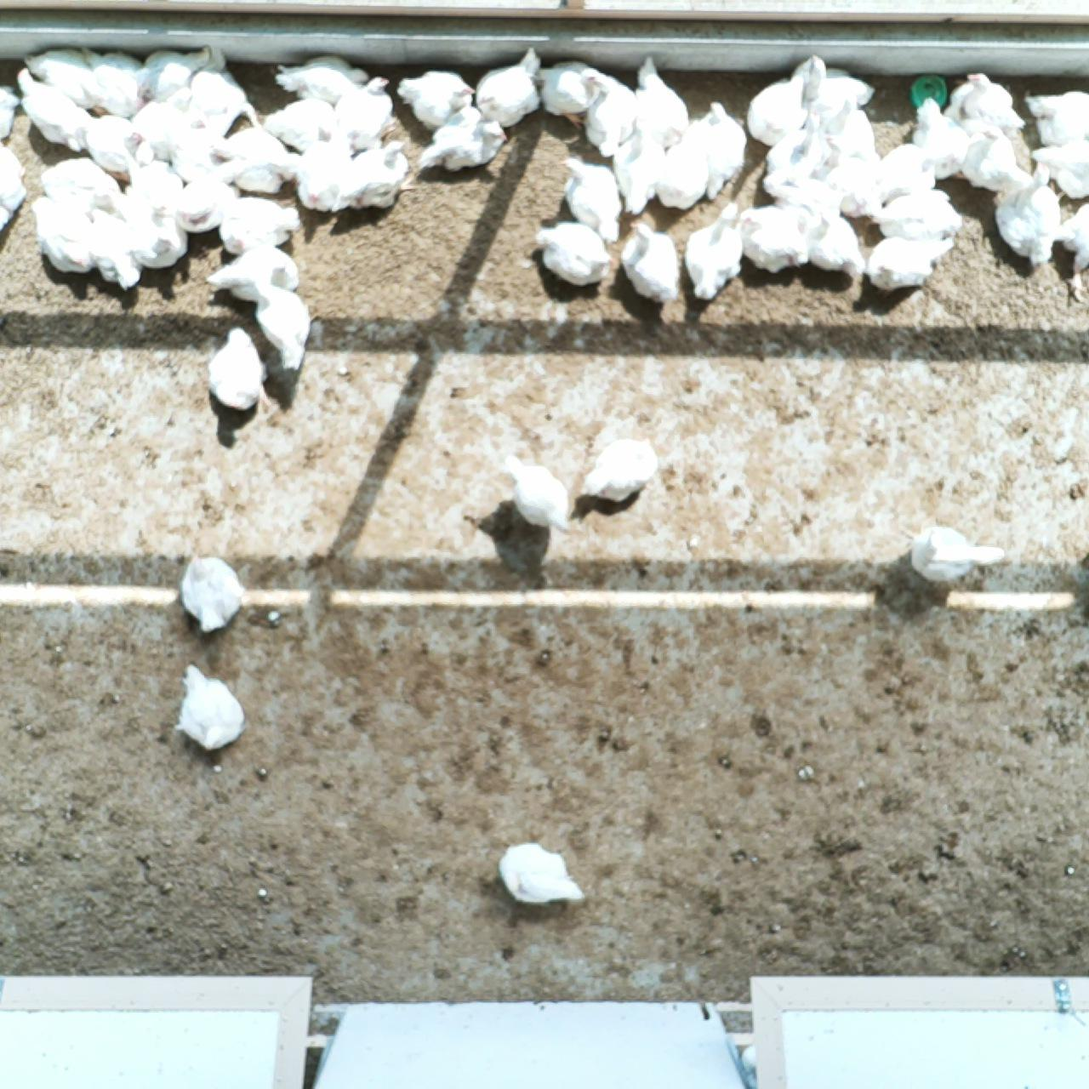chicken: (991, 161, 1064, 269), (898, 519, 1010, 589), (170, 661, 253, 751), (199, 324, 277, 419), (329, 135, 421, 215), (416, 104, 509, 180), (683, 199, 748, 305), (207, 123, 301, 196), (497, 451, 578, 535), (14, 66, 94, 151), (578, 432, 662, 512), (499, 838, 591, 909), (211, 123, 299, 197), (865, 183, 966, 247), (204, 240, 304, 304), (179, 549, 252, 635), (906, 97, 974, 189), (558, 154, 626, 246), (605, 117, 669, 214), (475, 44, 546, 130), (250, 279, 316, 371), (690, 99, 748, 202), (20, 44, 103, 114), (958, 123, 1033, 200), (629, 54, 690, 148), (124, 184, 187, 275), (29, 191, 96, 276), (819, 133, 882, 223), (534, 219, 616, 288), (81, 42, 155, 117), (219, 192, 303, 258), (738, 204, 812, 277), (751, 60, 811, 150), (533, 55, 605, 130), (397, 64, 475, 133), (36, 154, 124, 215), (274, 48, 371, 102), (296, 128, 356, 215), (85, 200, 141, 293), (946, 71, 1024, 135), (766, 113, 834, 186), (863, 235, 947, 293), (583, 68, 640, 153), (620, 221, 680, 301), (653, 135, 711, 214), (263, 92, 339, 150), (801, 57, 874, 115), (339, 75, 396, 149), (136, 45, 211, 100), (1052, 200, 1089, 308), (81, 113, 152, 169), (1023, 86, 1089, 146), (811, 214, 869, 281), (873, 143, 941, 200), (165, 129, 236, 183), (135, 103, 206, 155), (1029, 139, 1089, 198), (171, 178, 232, 235), (761, 172, 836, 216), (133, 160, 185, 215), (0, 143, 31, 235), (824, 107, 879, 154), (191, 74, 239, 118), (0, 85, 26, 143)
